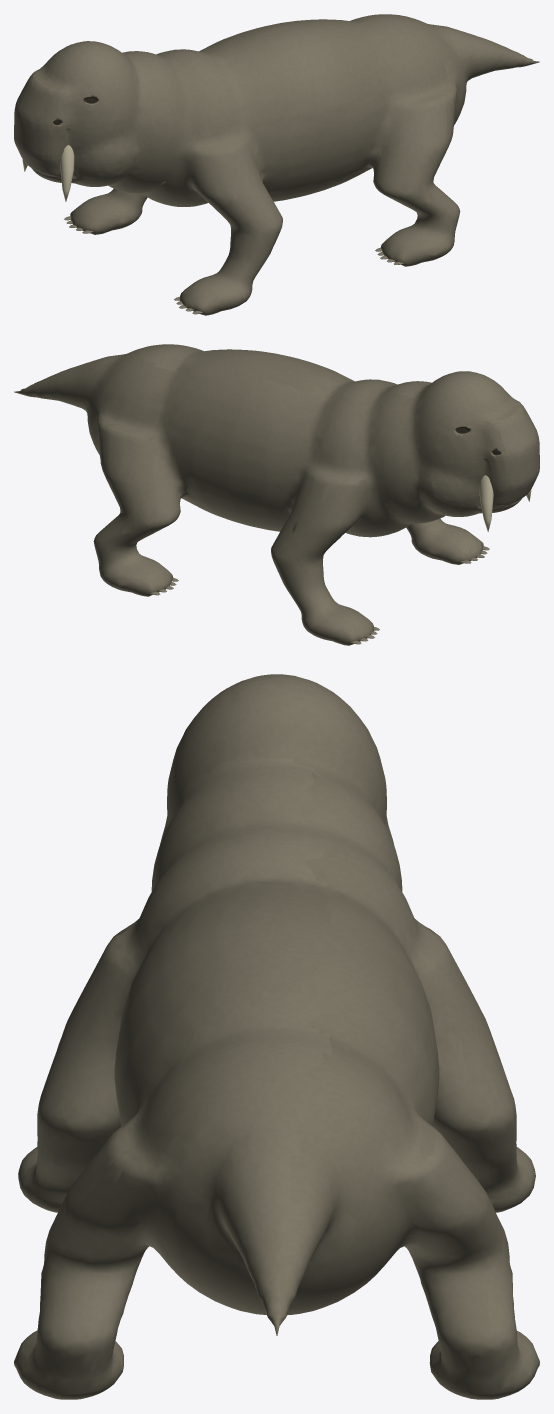
3 views of the same model, one above another, from view 1: azimuth 30°, elevation 25°; view 2: azimuth 150°, elevation 25°; view 3: azimuth 270°, elevation 25° (orthographic). The views are drawn at different scales.
Parts seen in each view (by area): view 1: Lystrosaurus_murrayi_continuous_skin, Upper tusk buried maxillary root; view 2: Lystrosaurus_murrayi_continuous_skin, Upper tusk buried maxillary root.001; view 3: Lystrosaurus_murrayi_continuous_skin.
Boxes of the visible parts, <box> form: Lystrosaurus_murrayi_continuous_skin: <box>14,14,539,315</box>; Upper tusk buried maxillary root: <box>60,145,74,201</box>; Lystrosaurus_murrayi_continuous_skin: <box>14,344,539,645</box>; Upper tusk buried maxillary root.001: <box>479,475,493,531</box>; Lystrosaurus_murrayi_continuous_skin: <box>14,674,539,1399</box>.
Size of the model in its own units: 1 by 0.4388 by 0.4654.
5 materials, 1 textured.
